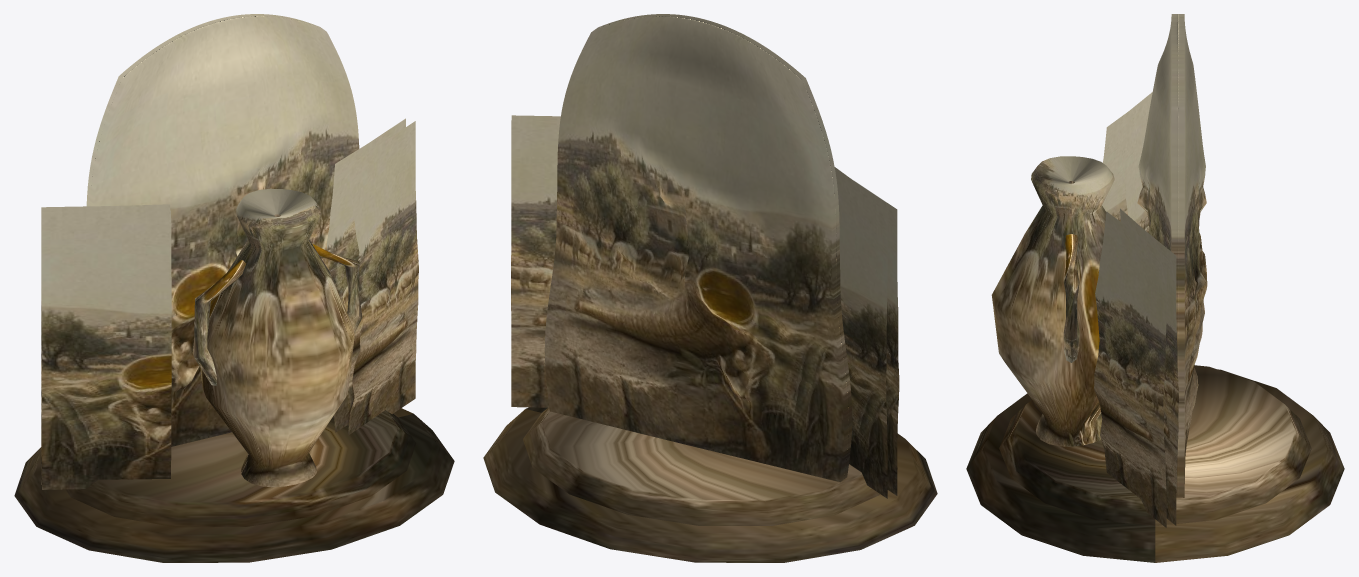
File: samuel-15.glb
The picture shows the model from 3 angles, left to right: view 1: azimuth 30°, elevation 25°; view 2: azimuth 150°, elevation 25°; view 3: azimuth 270°, elevation 25°; orthographic projection. The views are drawn at different scales.
Parts seen in each view (by area): view 1: PaintingSculptureMonument; view 2: PaintingSculptureMonument; view 3: PaintingSculptureMonument.
Part boxes in pixels (x1,y1,x2,y2): PaintingSculptureMonument: (14, 14, 454, 562); PaintingSculptureMonument: (483, 14, 937, 562); PaintingSculptureMonument: (966, 14, 1344, 562).
Bounding box in the file's own units: 2.76 × 2.99 × 2.35.
1 material, 1 textured.
